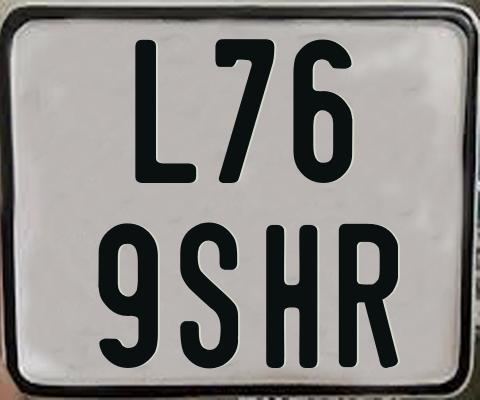6: (291, 38, 351, 185)
7: (214, 36, 273, 185)
9: (96, 223, 159, 368)
H: (265, 223, 316, 368)
L: (133, 37, 195, 183)
R: (337, 221, 397, 369)
S: (178, 220, 237, 373)
